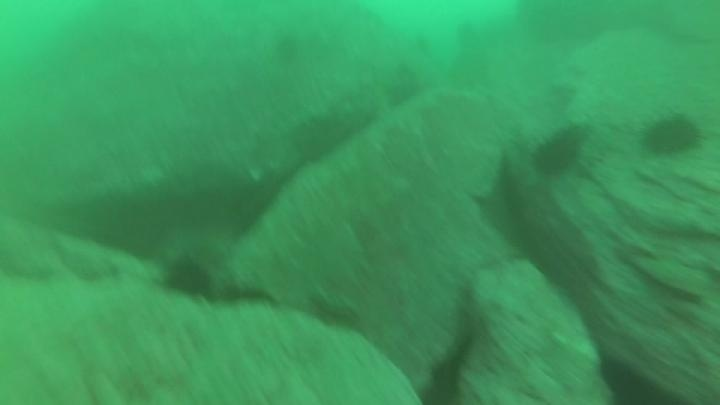echinus: (638, 109, 704, 160), (529, 125, 585, 181), (160, 254, 215, 302), (271, 31, 303, 66)
